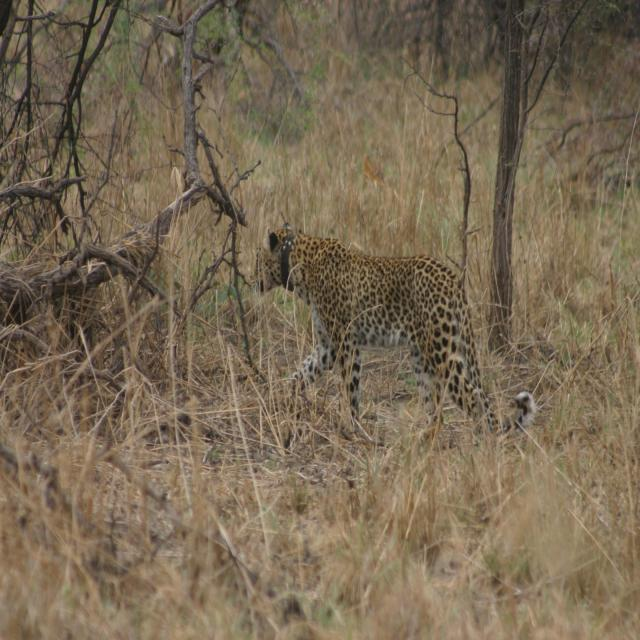Leopard: (251, 219, 542, 437)
